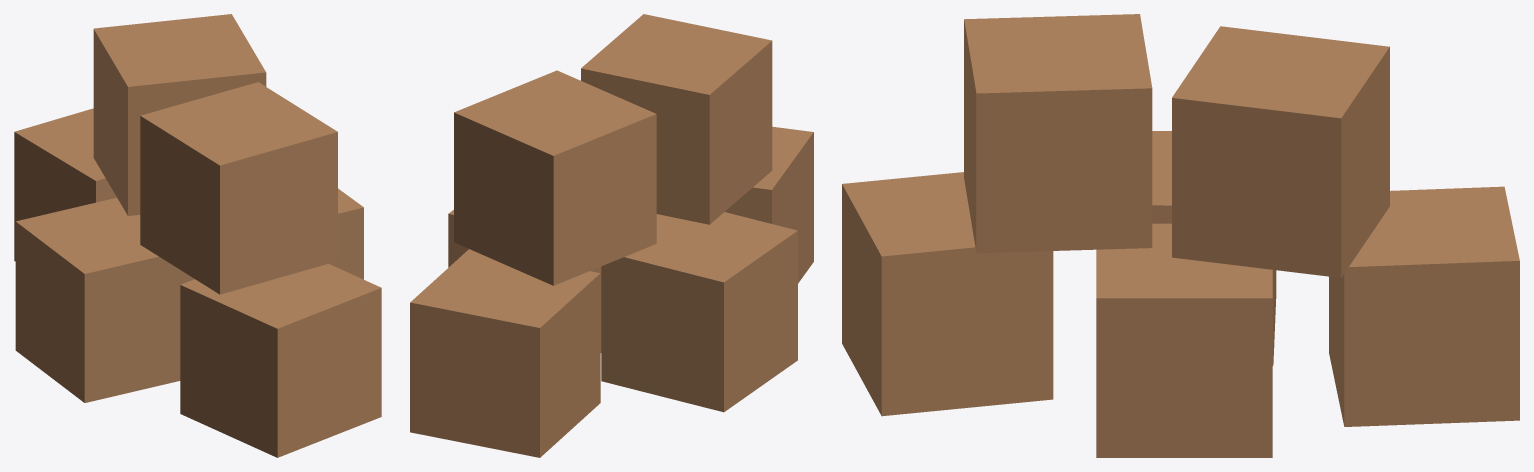
File: box_stack.glb
3 views of the same model, side by side, from view 1: azimuth 30°, elevation 25°; view 2: azimuth 150°, elevation 25°; view 3: azimuth 270°, elevation 25° (orthographic). The views are drawn at different scales.
Visible parts, largest first — view 1: Box_Stack_Brown; view 2: Box_Stack_Brown; view 3: Box_Stack_Brown.
Part boxes in pixels (left/top/right/bottom): Box_Stack_Brown: left=14, top=14, right=381, bottom=457; Box_Stack_Brown: left=410, top=14, right=813, bottom=457; Box_Stack_Brown: left=842, top=14, right=1519, bottom=457.
Size of the model in its own units: 1.17 by 1.04 by 2.
Materials: 1 (1 with a texture image).
